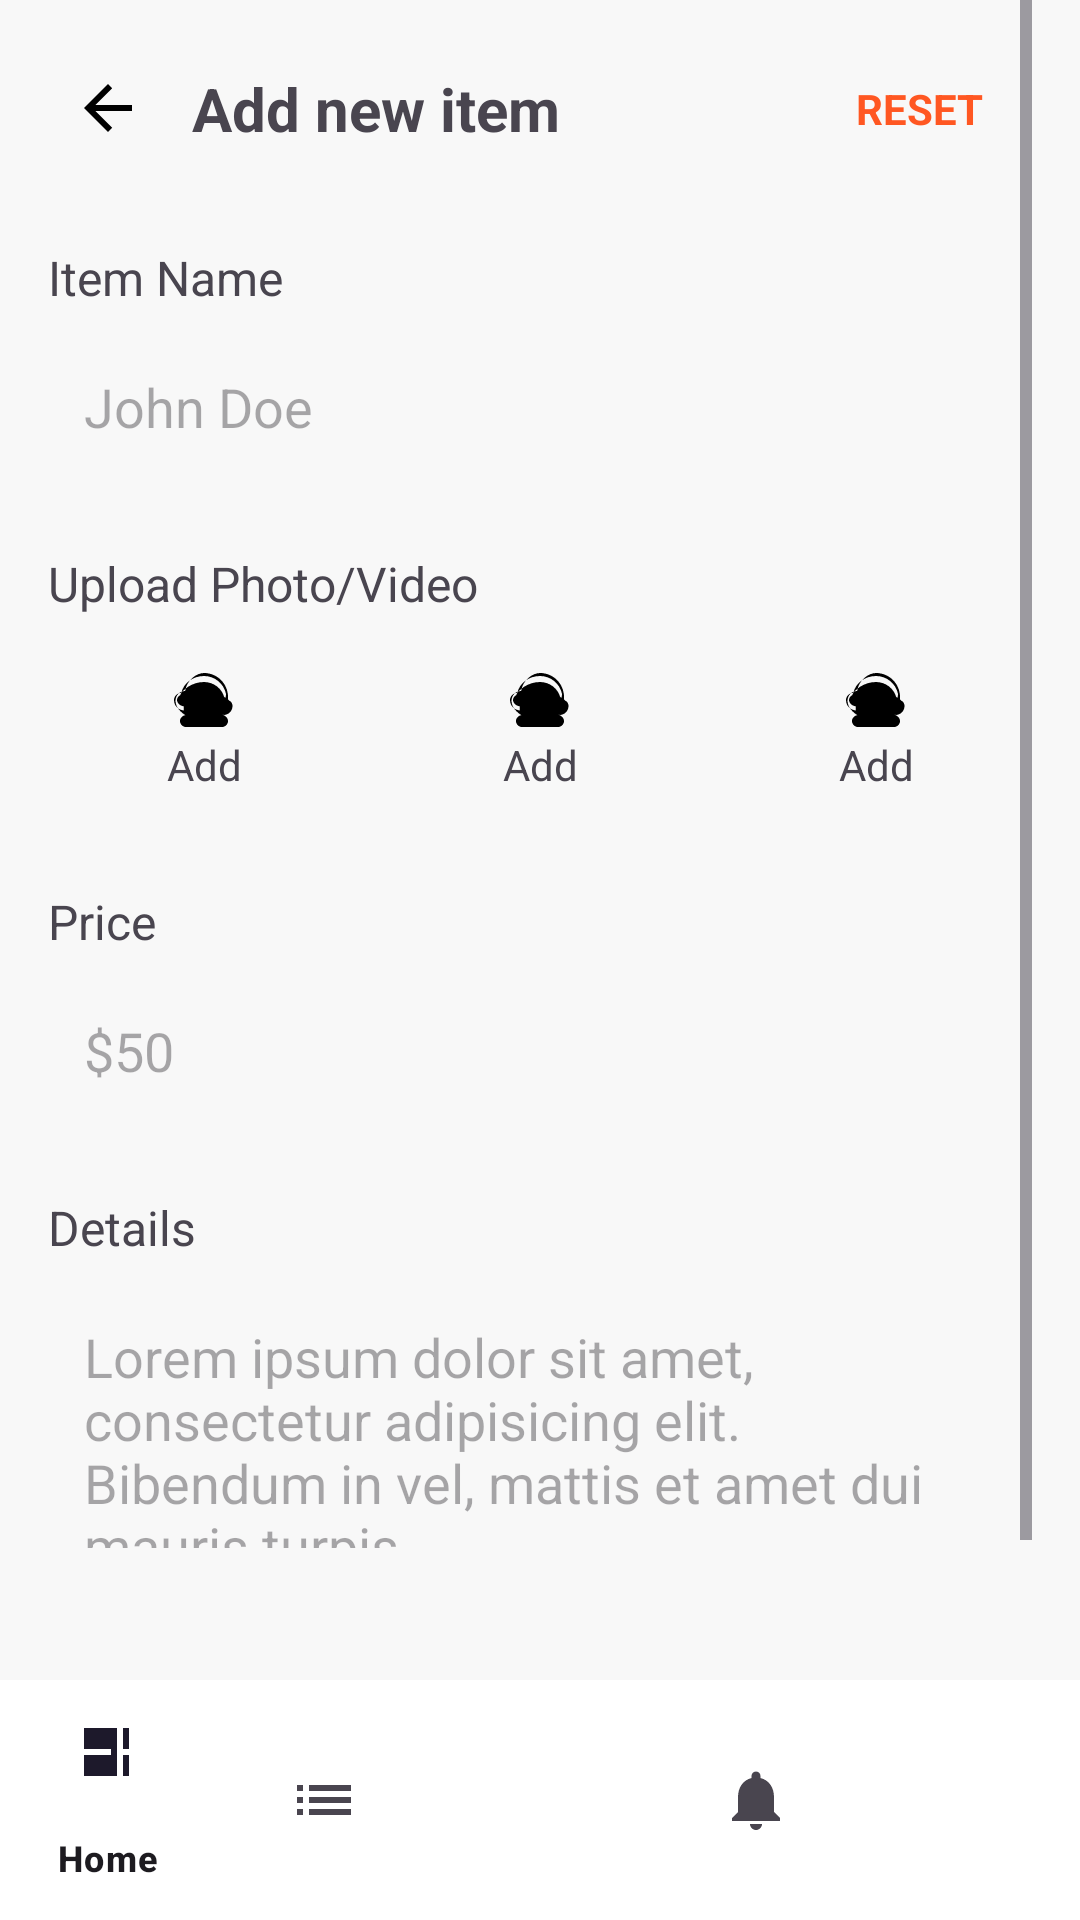

Icon click points for this 1080×1920 phone screenshot, format (x,y):
Back button: (108,108)
